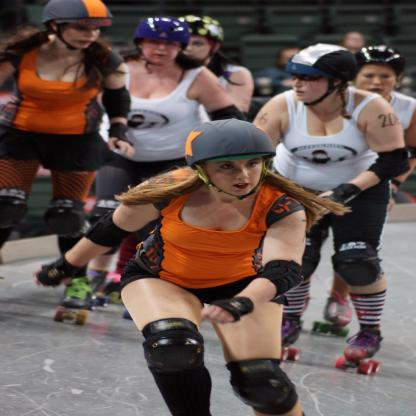Helmet: (184, 116, 278, 195), (287, 42, 357, 106), (34, 1, 104, 43), (136, 17, 193, 53), (362, 46, 406, 81), (180, 13, 227, 42)
